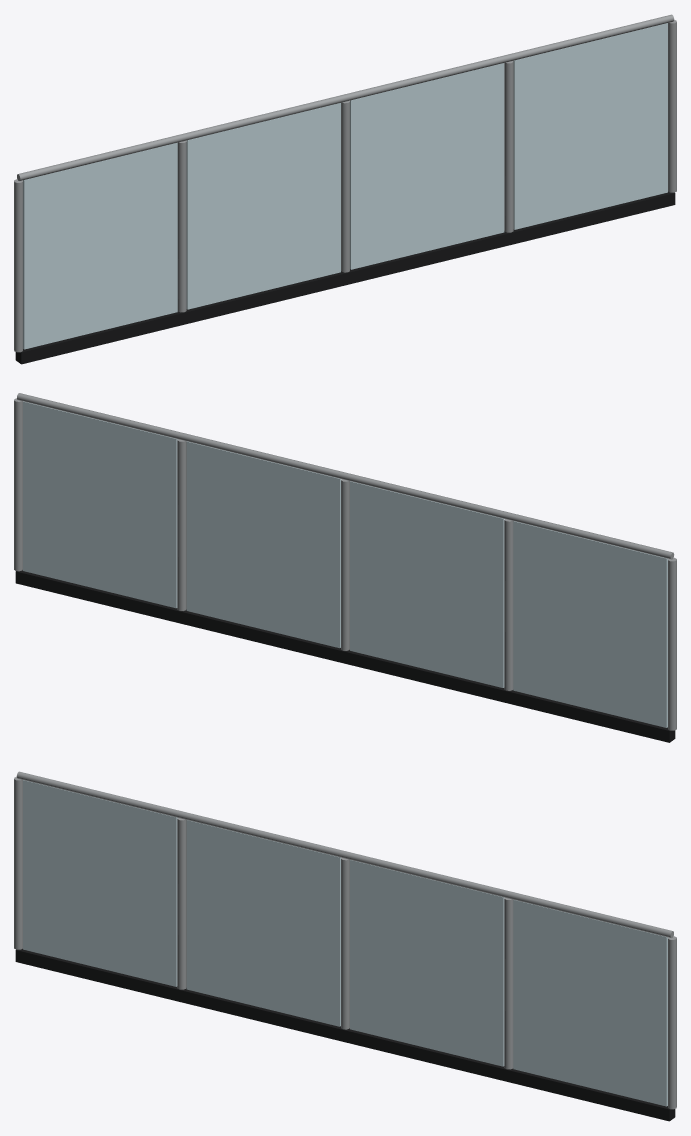
The model's file is gteki_railing_run_glass_h1100_l4000.glb.
3 renders of one model, top to bottom at view 1: azimuth 30°, elevation 25°; view 2: azimuth 150°, elevation 25°; view 3: azimuth 330°, elevation 25°, orthographic.
Visible parts, largest first — view 1: VIS_body; view 2: VIS_body; view 3: VIS_body.
Boxes of the visible parts, x1,y1,x2,y2 form: VIS_body: [14, 14, 676, 364]; VIS_body: [14, 393, 676, 742]; VIS_body: [14, 771, 676, 1121].
Bounding box in the file's own units: 4.05 × 1.1 × 0.06.
Materials: 2 (2 with a texture image).
